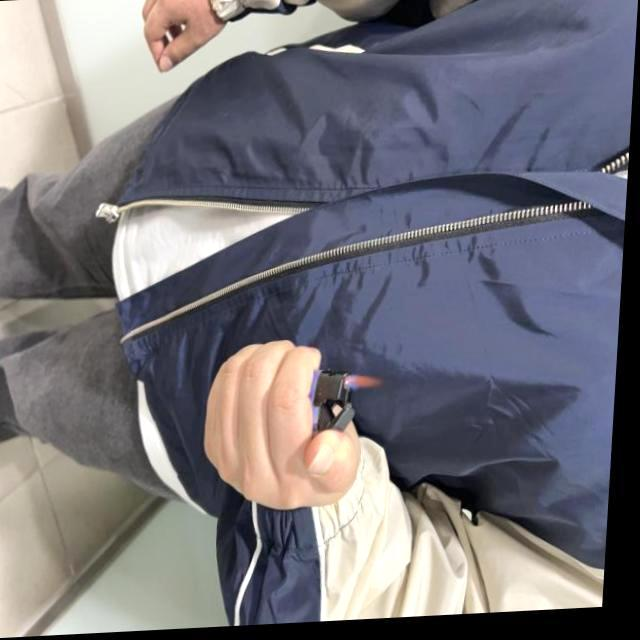fire: (346, 374, 390, 394)
